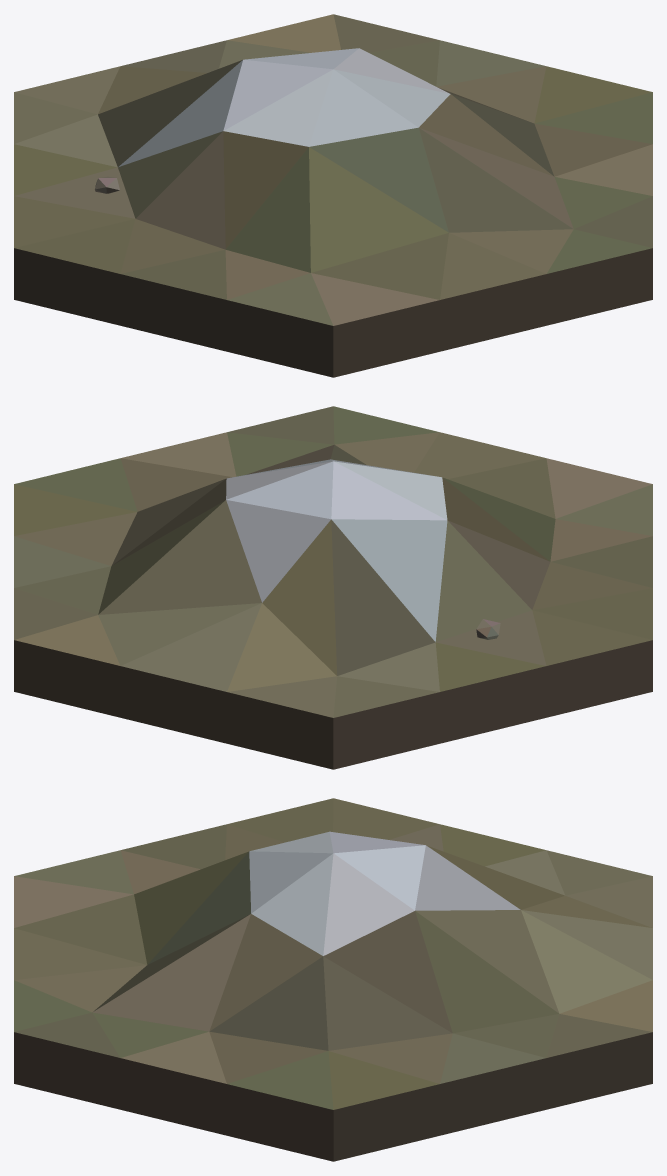
File: Tundra Hill-Far.glb
3 views of the same model, one above another, from view 1: azimuth 30°, elevation 25°; view 2: azimuth 150°, elevation 25°; view 3: azimuth 270°, elevation 25° (orthographic).
Parts seen in each view (by area): view 1: Tundra Hill-Far; view 2: Tundra Hill-Far; view 3: Tundra Hill-Far.
Boxes of the visible parts, <box> form: Tundra Hill-Far: <box>14,14,652,377</box>; Tundra Hill-Far: <box>14,406,652,769</box>; Tundra Hill-Far: <box>14,798,652,1161</box>.
Bounding box in the file's own units: 1.94 × 0.4425 × 1.68.
